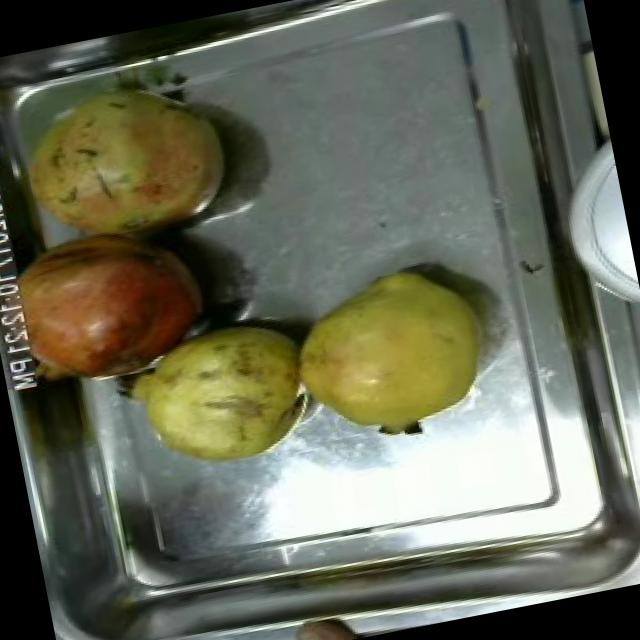fruit: (268, 248, 516, 468), (0, 63, 248, 264), (0, 201, 227, 406), (109, 303, 330, 488)
